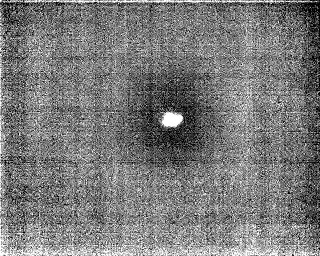AIRPLANE: (159, 109, 184, 131)
